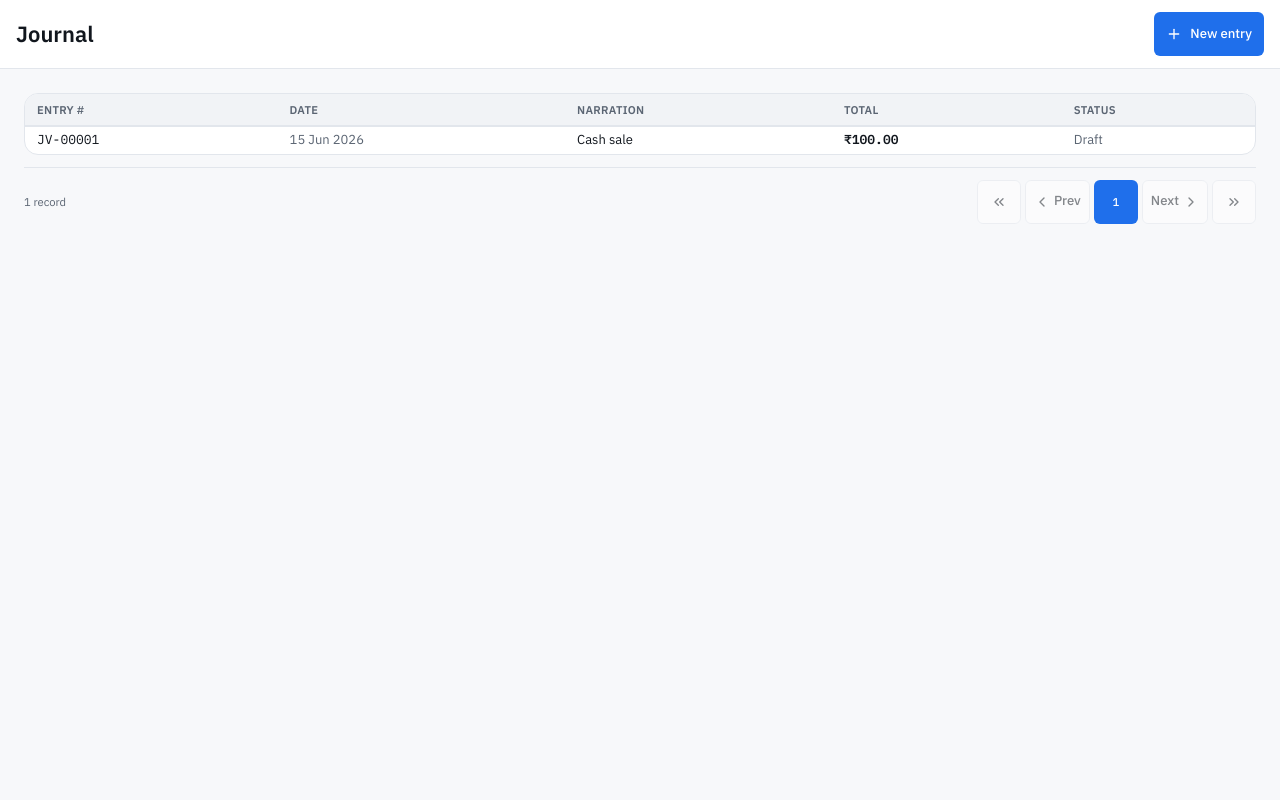
Test: JournalPage › disables Save draft until the entry is balanced
This screenshot has width=1280, height=800.
Expected: the text "JV-00001" is shown, [37,131,99,148]
Click the button "New entry" at (1209, 34), box [1154,12,1264,56]
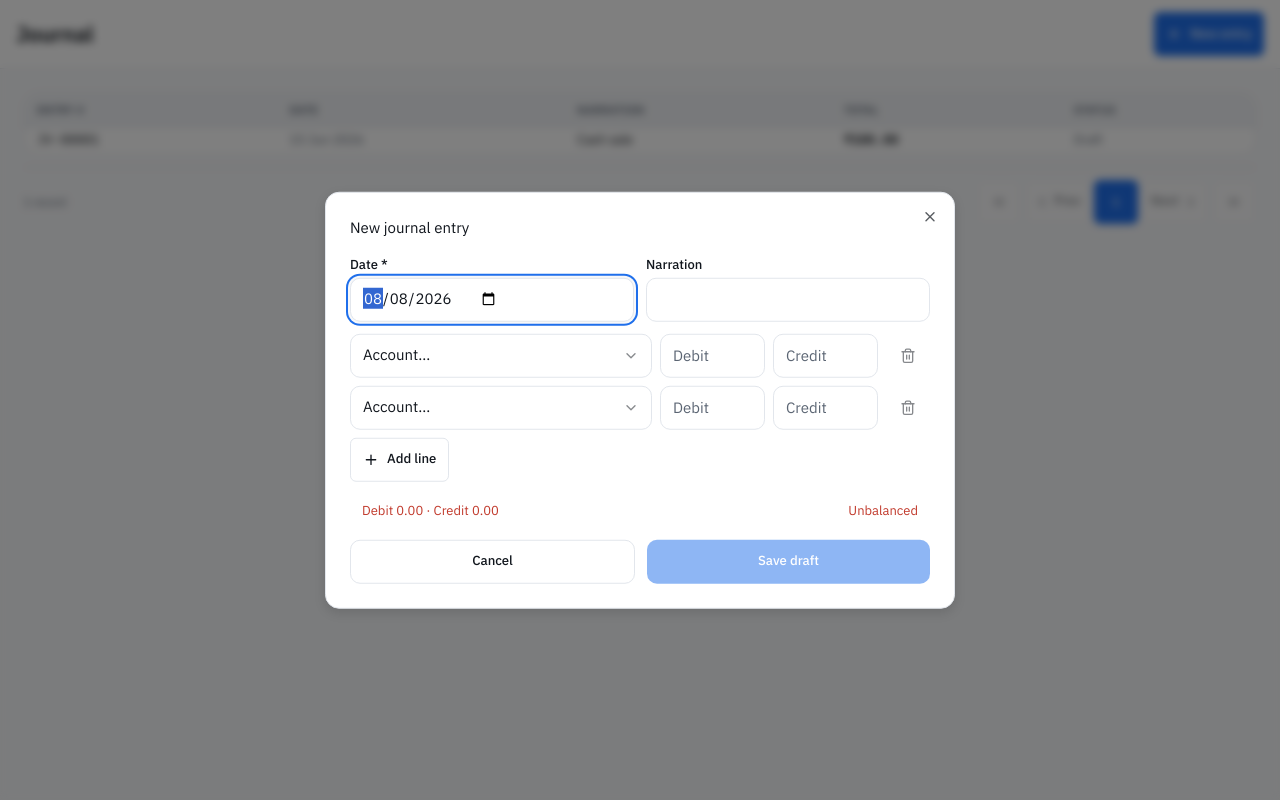
Result: the dialog is shown at [325,192,955,608]
Result: the button "Save draft" is disabled at [647,539,930,583]
Result: the text "Unbalanced" is shown at [848,501,918,519]
